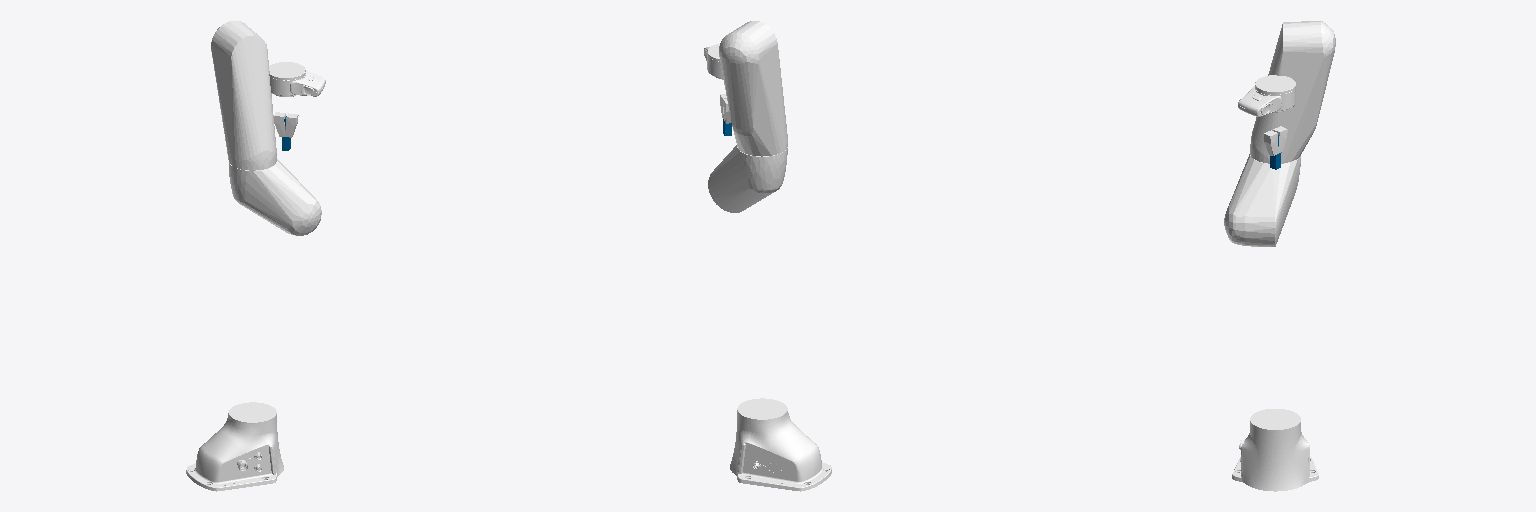
URDF robot description (panda):
<?xml version="1.0" ?>
<!-- =================================================================================== -->
<!-- |    This document was autogenerated by xacro from panda_arm_hand.urdf.xacro      | -->
<!-- |    EDITING THIS FILE BY HAND IS NOT RECOMMENDED                                 | -->
<!-- =================================================================================== -->
<robot name="panda" xmlns:xacro="http://www.ros.org/wiki/xacro">
  <link name="world"/>
  <joint name="arm_to_world_fixed" type="fixed">
    <parent link="world"/>
    <child link="panda_link0"/>
    <origin xyz="0 0 0" rpy="0 0 0" />
  </joint>
  <link name="panda_link0">
    <visual>
      <geometry>
        <mesh filename="./meshes/visual/link0.obj"/>
      </geometry>
      <material name="panda_white"/>
    </visual>
    <collision>
      <geometry>
        <mesh filename="./meshes/collision/link0.obj"/>
      </geometry>
      <material name="panda_white"/>
    </collision>
  </link>
  <link name="panda_link1">
    <visual>
      <geometry>
        <mesh filename="./meshes/visual/link1.obj"/>
      </geometry>
      <material name="panda_white"/>
    </visual>
    <collision>
      <geometry>
        <mesh filename="./meshes/collision/link1.obj"/>
      </geometry>
      <material name="panda_white"/>
    </collision>
  </link>
  <joint name="panda_joint1" type="revolute">
    <safety_controller k_position="100.0" k_velocity="40.0" soft_lower_limit="-2.8973" soft_upper_limit="2.8973"/>
    <origin rpy="0 0 0" xyz="0 0 0.333"/>
    <parent link="panda_link0"/>
    <child link="panda_link1"/>
    <axis xyz="0 0 1"/>
    <limit effort="87" lower="-2.9671" upper="2.9671" velocity="2.1750"/>
  </joint>
  <link name="panda_link2">
    <visual>
      <geometry>
        <mesh filename="./meshes/visual/link2.obj"/>
      </geometry>
      <material name="panda_white"/>
    </visual>
    <collision>
      <geometry>
        <mesh filename="./meshes/collision/link2.obj"/>
      </geometry>
      <material name="panda_white"/>
    </collision>
  </link>
  <joint name="panda_joint2" type="revolute">
    <safety_controller k_position="100.0" k_velocity="40.0" soft_lower_limit="-1.7628" soft_upper_limit="1.7628"/>
    <origin rpy="-1.57079632679 0 0" xyz="0 0 0"/>
    <parent link="panda_link1"/>
    <child link="panda_link2"/>
    <axis xyz="0 0 1"/>
    <limit effort="87" lower="-1.8326" upper="1.8326" velocity="2.1750"/>
  </joint>
  <link name="panda_link3">
    <visual>
      <geometry>
        <mesh filename="./meshes/visual/link3.obj"/>
      </geometry>
      <material name="panda_white"/>
    </visual>
    <collision>
      <geometry>
        <mesh filename="./meshes/collision/link3.obj"/>
      </geometry>
      <material name="panda_white"/>
    </collision>
  </link>
  <joint name="panda_joint3" type="revolute">
    <safety_controller k_position="100.0" k_velocity="40.0" soft_lower_limit="-2.8973" soft_upper_limit="2.8973"/>
    <origin rpy="1.57079632679 0 0" xyz="0 -0.316 0"/>
    <parent link="panda_link2"/>
    <child link="panda_link3"/>
    <axis xyz="0 0 1"/>
    <limit effort="87" lower="-2.9671" upper="2.9671" velocity="2.1750"/>
  </joint>
  <link name="panda_link4">
    <visual>
      <geometry>
        <mesh filename="./meshes/visual/link4.obj"/>
      </geometry>
      <material name="panda_white"/>
    </visual>
    <collision>
      <geometry>
        <mesh filename="./meshes/collision/link4.obj"/>
      </geometry>
      <material name="panda_white"/>
    </collision>
  </link>
  <joint name="panda_joint4" type="revolute">
    <safety_controller k_position="100.0" k_velocity="40.0" soft_lower_limit="-3.0718" soft_upper_limit="-0.0698"/>
    <origin rpy="1.57079632679 0 0" xyz="0.0825 0 0"/>
    <parent link="panda_link3"/>
    <child link="panda_link4"/>
    <axis xyz="0 0 1"/>
    <limit effort="87" lower="-3.1416" upper="0.0" velocity="2.1750"/>
  </joint>
  <link name="panda_link5">
    <visual>
      <geometry>
        <mesh filename="./meshes/visual/link5.obj"/>
      </geometry>
      <material name="panda_white"/>
    </visual>
    <collision>
      <geometry>
        <mesh filename="./meshes/collision/link5.obj"/>
      </geometry>
      <material name="panda_white"/>
    </collision>
  </link>
  <joint name="panda_joint5" type="revolute">
    <safety_controller k_position="100.0" k_velocity="40.0" soft_lower_limit="-2.8973" soft_upper_limit="2.8973"/>
    <origin rpy="-1.57079632679 0 0" xyz="-0.0825 0.384 0"/>
    <parent link="panda_link4"/>
    <child link="panda_link5"/>
    <axis xyz="0 0 1"/>
    <limit effort="12" lower="-2.9671" upper="2.9671" velocity="2.6100"/>
  </joint>
  <link name="panda_link6">
    <visual>
      <geometry>
        <mesh filename="./meshes/visual/link6.obj"/>
      </geometry>
      <material name="panda_white"/>
    </visual>
    <collision>
      <geometry>
        <mesh filename="./meshes/collision/link6.obj"/>
      </geometry>
      <material name="panda_white"/>
    </collision>
  </link>
  <joint name="panda_joint6" type="revolute">
    <safety_controller k_position="100.0" k_velocity="40.0" soft_lower_limit="-0.0175" soft_upper_limit="3.7525"/>
    <origin rpy="1.57079632679 0 0" xyz="0 0 0"/>
    <parent link="panda_link5"/>
    <child link="panda_link6"/>
    <axis xyz="0 0 1"/>
    <limit effort="12" lower="-0.0873" upper="3.8223" velocity="2.6100"/>
  </joint>
  <link name="panda_link7">
    <visual>
      <geometry>
        <mesh filename="./meshes/visual/link7.obj"/>
      </geometry>
      <material name="panda_white"/>
    </visual>
    <collision>
      <geometry>
        <mesh filename="./meshes/collision/link7.obj"/>
      </geometry>
      <material name="panda_white"/>
    </collision>
  </link>
  <joint name="panda_joint7" type="revolute">
    <safety_controller k_position="100.0" k_velocity="40.0" soft_lower_limit="-2.8973" soft_upper_limit="2.8973"/>
    <origin rpy="1.57079632679 0 0" xyz="0.088 0 0"/>
    <parent link="panda_link6"/>
    <child link="panda_link7"/>
    <axis xyz="0 0 1"/>
    <limit effort="12" lower="-2.9671" upper="2.9671" velocity="2.6100"/>
  </joint>
  <!-- <link name="panda_link8"/>
  <joint name="panda_joint8" type="fixed">
    <origin rpy="0 0 0" xyz="0 0 0.107"/>
    <parent link="panda_link7"/>
    <child link="panda_link8"/>
    <axis xyz="0 0 0"/>
  </joint> -->
  <link name="panda_hand">
    <visual>
      <geometry>
        <mesh filename="./meshes/visual/hand.obj"/>
      </geometry>
      <material name="panda_white"/>
    </visual>
    <collision>
      <geometry>
        <mesh filename="./meshes/collision/hand.obj"/>
      </geometry>
      <material name="panda_white"/>
    </collision>
  </link>
  <joint name="panda_hand_joint" type="fixed">
    <parent link="panda_link7"/>
    <child link="panda_hand"/>
    <origin rpy="0 0 -0.785398163397" xyz="0 0 0.107"/>
    <axis xyz="0 0 0"/>
  </joint>
  <link name="panda_leftfinger">
    <visual>
      <geometry>
        <mesh filename="./meshes/visual/finger.obj"/>
      </geometry>
      <material name="panda_white"/>
    </visual>
    <collision>
      <geometry>
        <mesh filename="./meshes/collision/finger.obj"/>
      </geometry>
      <material name="panda_white"/>
    </collision>
  </link>
  <link name="panda_rightfinger">
    <visual>
      <origin rpy="0 0 0" xyz="0 0 0"/>
      <geometry>
        <mesh filename="./meshes/visual/finger.obj"/>
      </geometry>
      <material name="panda_white"/>
    </visual>
    <collision>
      <origin rpy="0 0 0" xyz="0 0 0"/>
      <geometry>
        <mesh filename="./meshes/collision/finger.obj"/>
      </geometry>
      <material name="panda_white"/>
    </collision>
  </link>
  <joint name="panda_finger_joint1" type="prismatic">
    <parent link="panda_hand"/>
    <child link="panda_leftfinger"/>
    <origin rpy="0 0 0" xyz="0 0 0.0584"/>
    <axis xyz="0 1 0"/>
    <limit effort="20" lower="0.0" upper="0.04" velocity="0.2"/>
  </joint>
  <joint name="panda_finger_joint2" type="prismatic">
    <parent link="panda_hand"/>
    <child link="panda_rightfinger"/>
    <origin rpy="0 0 3.14159265359" xyz="0 0 0.0584"/>
    <axis xyz="0 1 0"/>
    <limit effort="20" lower="0.0" upper="0.04" velocity="0.2"/>
    <mimic joint="panda_finger_joint1"/>
  </joint>
  <link name="panda_cube">
    <visual>
      <geometry>
        <mesh filename="./meshes/collision/cube.obj"/>
      </geometry>
    </visual>
    <collision>
      <geometry>
        <mesh filename="./meshes/collision/cube.obj"/>
      </geometry>
    </collision>
  </link>
  <joint name="panda_cube" type="fixed">
    <origin rpy="0 0 0" xyz="0 0 0.105"/>
    <parent link="panda_hand"/>
    <child link="panda_cube"/>
    <axis xyz="0 0 0"/>
  </joint>
  <material name="panda_white">
    <color rgba="1. 1. 1. 1."/>
  </material>
</robot>

--- Facts derived from the render (not from the file) ---
Views: 3 orthographic renders of the robot side by side, from view 1: azimuth 30°, elevation 25°; view 2: azimuth 150°, elevation 25°; view 3: azimuth 270°, elevation 25°.
Robot: panda — 13 links, 12 joints (7 revolute, 2 prismatic, 3 fixed); root link world; default pose: all joints at 0.
Links seen in each view (by area): view 1: panda_link5, panda_link0, panda_link4, panda_link7; view 2: panda_link5, panda_link0, panda_link4; view 3: panda_link5, panda_link0, panda_link4, panda_link7.
Link boxes in pixels (box(x1,y1,x2,y2)): panda_link5: box(211, 20, 276, 170); panda_link0: box(186, 402, 283, 491); panda_link4: box(229, 159, 321, 235); panda_link7: box(269, 62, 325, 96); panda_link5: box(719, 21, 787, 156); panda_link0: box(730, 398, 831, 491); panda_link4: box(708, 145, 787, 212); panda_link5: box(1250, 21, 1335, 163); panda_link0: box(1232, 409, 1318, 491); panda_link4: box(1224, 154, 1300, 246); panda_link7: box(1238, 75, 1295, 116).
Bounding box of the posed robot: 0.3234 × 0.241 × 1.09 m (x, y, z).
Meshes: 11 distinct files referenced, 7 mesh visuals loaded (6 OBJ); not drawn: 5 (reference not matched to a file when rendering).
